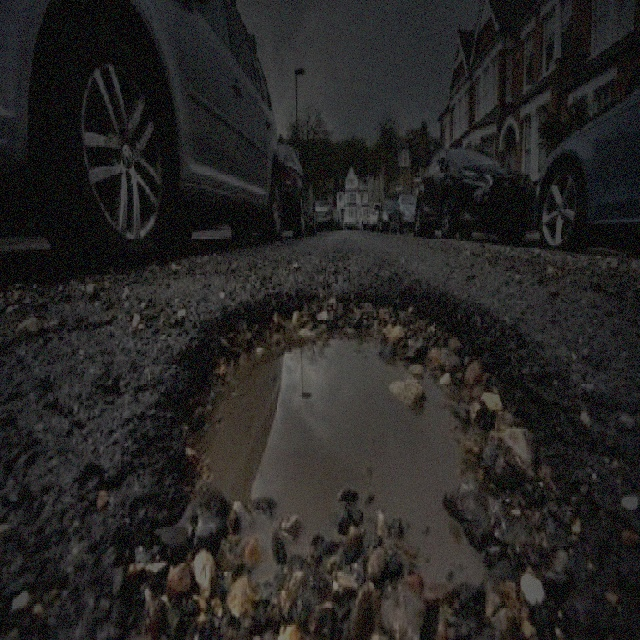pothole: (109, 277, 568, 638)
